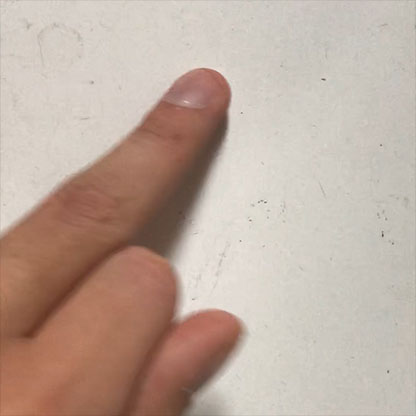fingertip: (156, 53, 239, 131)
